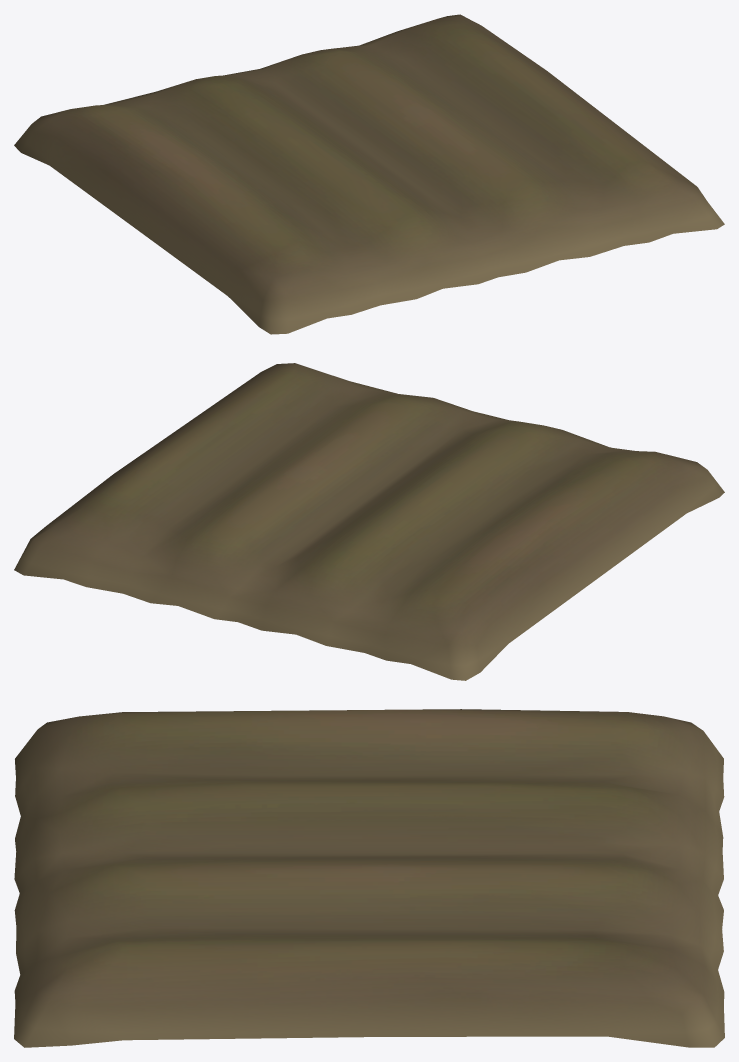
File: SM_Crop_Lettuce_04.glb
3 views of the same model, one above another, from view 1: azimuth 30°, elevation 25°; view 2: azimuth 150°, elevation 25°; view 3: azimuth 270°, elevation 25° (orthographic). The views are drawn at different scales.
Parts seen in each view (by area): view 1: SM_Crop_Lettuce_04; view 2: SM_Crop_Lettuce_04; view 3: SM_Crop_Lettuce_04.
Part boxes in pixels (x1,y1,x2,y2): SM_Crop_Lettuce_04: [14, 14, 724, 334]; SM_Crop_Lettuce_04: [14, 363, 724, 680]; SM_Crop_Lettuce_04: [14, 709, 724, 1047].
Size of the model in its own units: 3.94 by 0.4372 by 3.94.
Materials: 1 (1 with a texture image).
